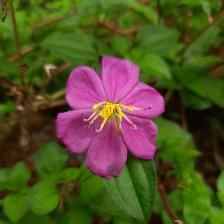malabar melastome: (55, 52, 167, 183)
